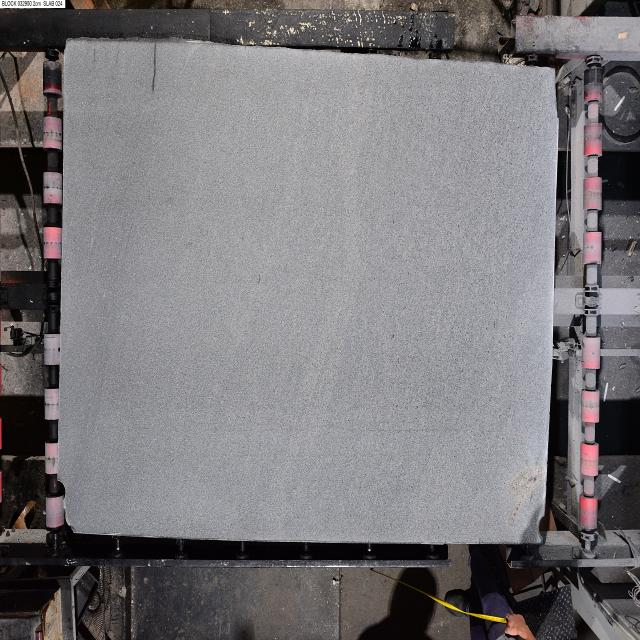chapa: (59, 39, 558, 544)
